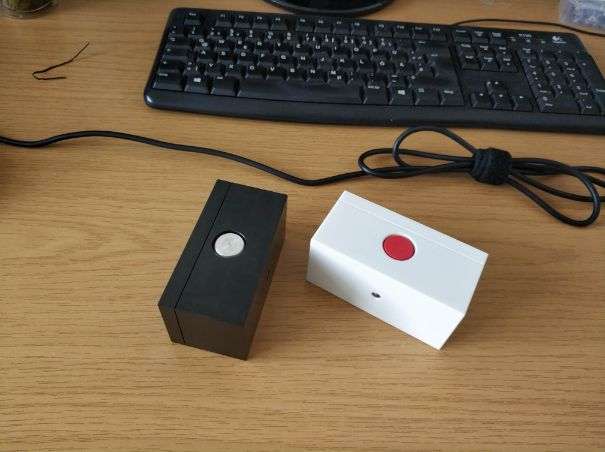black+black+silver: (152, 178, 292, 362)
white+white+red: (303, 187, 493, 353)
